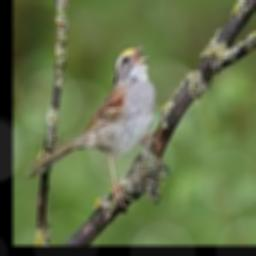Sparrow: (28, 43, 157, 211)
